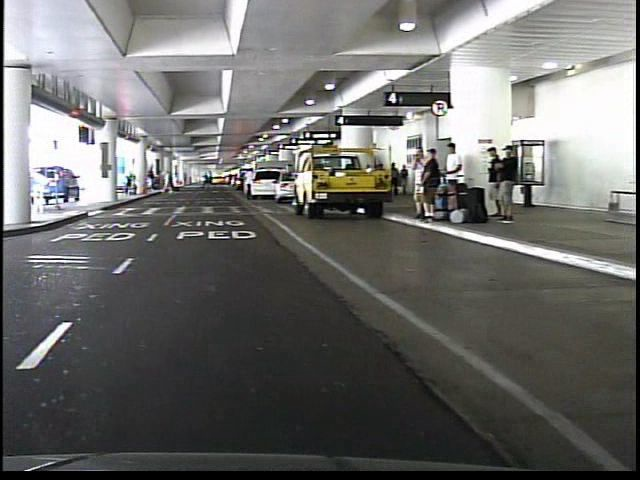person: (494, 144, 512, 224), (403, 145, 422, 217), (237, 165, 252, 200), (154, 164, 169, 198)
